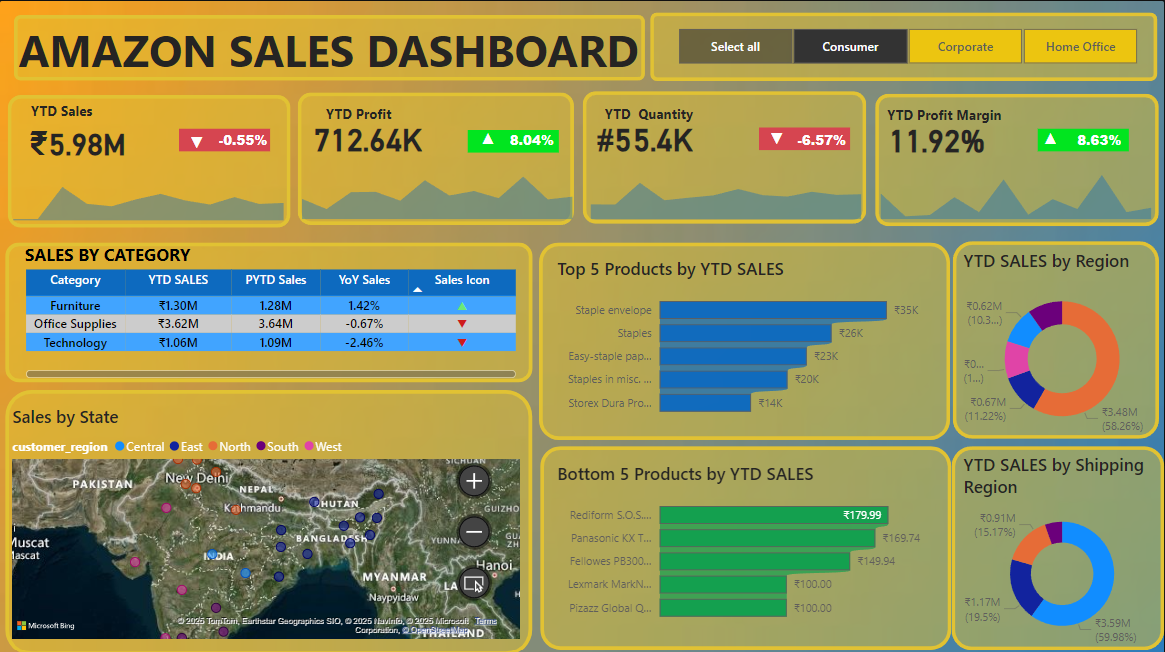

The page's visual inventory and layout, read from the dashboard file:
{"tool":"powerbi","page":{"name":"Page 1","canvas":[1280,720],"ordinal":0},"visuals":[{"type":"shape","box":[17,17,694.4,72.2],"z":1000},{"type":"textbox","box":[16.5,16.5,703.9,87.8],"z":2000},{"type":"shape","box":[9.6,104.3,310.1,145.5],"z":3000},{"type":"cardVisual","fields":{"Data":["amazon_sales.YTD SALES"]},"box":[16.5,112.5,159.2,72.7],"z":4000},{"type":"areaChart","fields":{"Category":["Calender.Month"],"Y":["Sum(amazon_sales.sales_per_order)"]},"box":[0,174.3,328,72.7],"z":5000},{"type":"shape","box":[197.6,141.3,100.2,24.7],"z":6000},{"type":"cardVisual","fields":{"Data":["amazon_sales.YoY Sales"]},"box":[219.6,118,97.4,49.4],"z":7000},{"type":"cardVisual","fields":{"Data":["amazon_sales.Sales Icon"]},"box":[196.2,104.3,50.8,98.8],"z":8000},{"type":"textbox","box":[30.2,107,90.6,30.2],"z":9000},{"type":"shape","box":[328,101.5,303.3,145.5],"z":10000},{"type":"cardVisual","fields":{"Data":["amazon_sales.YTD PROFIT"]},"box":[328,109.8,159.2,72.7],"z":11000},{"type":"shape","box":[514.6,142.7,100.2,24.7],"z":12000},{"type":"cardVisual","fields":{"Data":["amazon_sales.YoY Profit"]},"box":[536.5,118,97.4,49.4],"z":13000},{"type":"shape","box":[1045.6,489.9,233.3,223.7],"z":13500},{"type":"cardVisual","fields":{"Data":["amazon_sales.Sales Icon"]},"box":[516,100.2,50.8,98.8],"z":14000},{"type":"textbox","box":[354,109.8,90.6,30.2],"z":15000},{"type":"areaChart","fields":{"Category":["Calender.Month"],"Y":["Sum(amazon_sales.profit_per_order)"]},"box":[317,172.9,328,72.7],"z":16000},{"type":"shape","box":[640.8,100.2,311.5,145.5],"z":17000},{"type":"cardVisual","fields":{"Data":["amazon_sales.YTD concat_quantity"]},"box":[639.5,109.8,159.2,72.7],"z":18000},{"type":"shape","box":[834.3,140,100.2,24.7],"z":19000},{"type":"cardVisual","fields":{"Data":["amazon_sales.YoY QUANTITY"]},"box":[854.9,118,97.4,49.4],"z":20000},{"type":"cardVisual","fields":{"Data":["amazon_sales.Quantity icon"]},"box":[832.9,100.2,50.8,98.8],"z":21000},{"type":"textbox","box":[660,109.8,120.8,30.2],"z":22000},{"type":"areaChart","fields":{"Category":["Calender.Month"],"Y":["Sum(amazon_sales.order_quantity)"]},"box":[634,172.9,328,72.7],"z":23000},{"type":"shape","box":[961.9,102.9,311.5,145.5],"z":24000},{"type":"cardVisual","fields":{"Data":["amazon_sales.YTD PROFIT MARGIN"]},"box":[958.9,111.1,159.2,72.7],"z":25000},{"type":"shape","box":[1140.3,141.3,100.2,24.7],"z":26000},{"type":"cardVisual","fields":{"Data":["amazon_sales.YoY Profit Margin"]},"box":[1159.5,118,97.4,49.4],"z":27000},{"type":"cardVisual","fields":{"Data":["amazon_sales.Profit Margin Icon"]},"box":[1133.5,100.2,50.8,98.8],"z":28000},{"type":"textbox","box":[970.2,111.1,148.2,30.2],"z":29000},{"type":"areaChart","fields":{"Category":["Calender.Month"],"Y":["amazon_sales.profit_margin"]},"box":[952.3,172.9,328,72.7],"z":30000},{"type":"shape","box":[6.9,266.2,579.1,153.7],"z":31000},{"type":"tableEx","title":"SALES BY CATEGORY","fields":{"Values":["amazon_sales.category_name","amazon_sales.YTD SALES","amazon_sales.PYTD Sales","amazon_sales.YoY Sales","amazon_sales.Sales Icon"]},"box":[23.3,266.2,548.9,153.7],"z":32000},{"type":"shape","box":[6.9,428.1,579.1,292.3],"z":33000},{"type":"map","title":"Sales by State","fields":{"Y":["Indian_states_codes.Latitude"],"X":["Indian_states_codes.Longitude"],"Series":["amazon_sales.customer_region"]},"box":[9.6,444.6,566.7,262.1],"z":34000},{"type":"shape","box":[592.8,266.2,451.5,216.8],"z":35000},{"type":"barChart","title":"Top 5 Products by YTD SALES","fields":{"Y":["amazon_sales.YTD SALES"],"Category":["amazon_sales.product_name"]},"box":[607.9,277.2,421.3,190.7],"z":36000},{"type":"shape","box":[594.2,489.9,451.5,223.7],"z":37000},{"type":"barChart","title":"Bottom 5 Products by YTD SALES","fields":{"Y":["amazon_sales.YTD SALES"],"Category":["amazon_sales.product_name"]},"box":[607.9,502.2,421.3,190.7],"z":38000},{"type":"shape","box":[1047,264.8,226.4,216.8],"z":39000},{"type":"donutChart","title":"YTD SALES by Region","fields":{"Category":["amazon_sales.customer_region"],"Y":["amazon_sales.YTD SALES"]},"box":[1053.9,273.1,226.4,216.8],"z":40000},{"type":"donutChart","title":"YTD SALES by Shipping Region","fields":{"Category":["amazon_sales.shipping_type"],"Y":["amazon_sales.YTD SALES"]},"box":[1053.6,496.7,226.4,216.8],"z":41500},{"type":"shape","box":[714.9,13.7,558.5,75.5],"z":41501},{"type":"slicer","fields":{"Values":["amazon_sales.customer_segment"]},"box":[720.4,24.7,553,52.1],"z":41502}]}

Visuals, with their boxes in screenshot pixels (x1, y1, x2, y2), scaled from the page's 1280x720 canvas onto the 1165x652 screenshot:
shape: bbox=[15, 15, 647, 81]
textbox: bbox=[15, 15, 656, 94]
shape: bbox=[9, 94, 291, 226]
cardVisual - amazon_sales.YTD SALES: bbox=[15, 102, 160, 168]
areaChart - Calender.Month x Sum(amazon_sales.sales_per_order): bbox=[0, 158, 299, 224]
shape: bbox=[180, 128, 271, 150]
cardVisual - amazon_sales.YoY Sales: bbox=[200, 107, 289, 152]
cardVisual - amazon_sales.Sales Icon: bbox=[179, 94, 225, 184]
textbox: bbox=[27, 97, 110, 124]
shape: bbox=[299, 92, 575, 224]
cardVisual - amazon_sales.YTD PROFIT: bbox=[299, 99, 443, 165]
shape: bbox=[468, 129, 560, 152]
cardVisual - amazon_sales.YoY Profit: bbox=[488, 107, 577, 152]
shape: bbox=[952, 444, 1164, 646]
cardVisual - amazon_sales.Sales Icon: bbox=[470, 91, 516, 180]
textbox: bbox=[322, 99, 405, 127]
areaChart - Calender.Month x Sum(amazon_sales.profit_per_order): bbox=[289, 157, 587, 222]
shape: bbox=[583, 91, 867, 222]
cardVisual - amazon_sales.YTD concat_quantity: bbox=[582, 99, 727, 165]
shape: bbox=[759, 127, 851, 149]
cardVisual - amazon_sales.YoY QUANTITY: bbox=[778, 107, 867, 152]
cardVisual - amazon_sales.Quantity icon: bbox=[758, 91, 804, 180]
textbox: bbox=[601, 99, 711, 127]
areaChart - Calender.Month x Sum(amazon_sales.order_quantity): bbox=[577, 157, 876, 222]
shape: bbox=[875, 93, 1159, 225]
cardVisual - amazon_sales.YTD PROFIT MARGIN: bbox=[873, 101, 1018, 166]
shape: bbox=[1038, 128, 1129, 150]
cardVisual - amazon_sales.YoY Profit Margin: bbox=[1055, 107, 1144, 152]
cardVisual - amazon_sales.Profit Margin Icon: bbox=[1032, 91, 1078, 180]
textbox: bbox=[883, 101, 1018, 128]
areaChart - Calender.Month x amazon_sales.profit_margin: bbox=[867, 157, 1164, 222]
shape: bbox=[6, 241, 533, 380]
"SALES BY CATEGORY" tableEx: bbox=[21, 241, 521, 380]
shape: bbox=[6, 388, 533, 651]
"Sales by State" map: bbox=[9, 403, 525, 640]
shape: bbox=[540, 241, 950, 437]
"Top 5 Products by YTD SALES" barChart: bbox=[553, 251, 937, 424]
shape: bbox=[541, 444, 952, 646]
"Bottom 5 Products by YTD SALES" barChart: bbox=[553, 455, 937, 627]
shape: bbox=[953, 240, 1159, 436]
"YTD SALES by Region" donutChart: bbox=[959, 247, 1164, 444]
"YTD SALES by Shipping Region" donutChart: bbox=[959, 450, 1164, 646]
shape: bbox=[651, 12, 1159, 81]
slicer - amazon_sales.customer_segment: bbox=[656, 22, 1159, 70]
